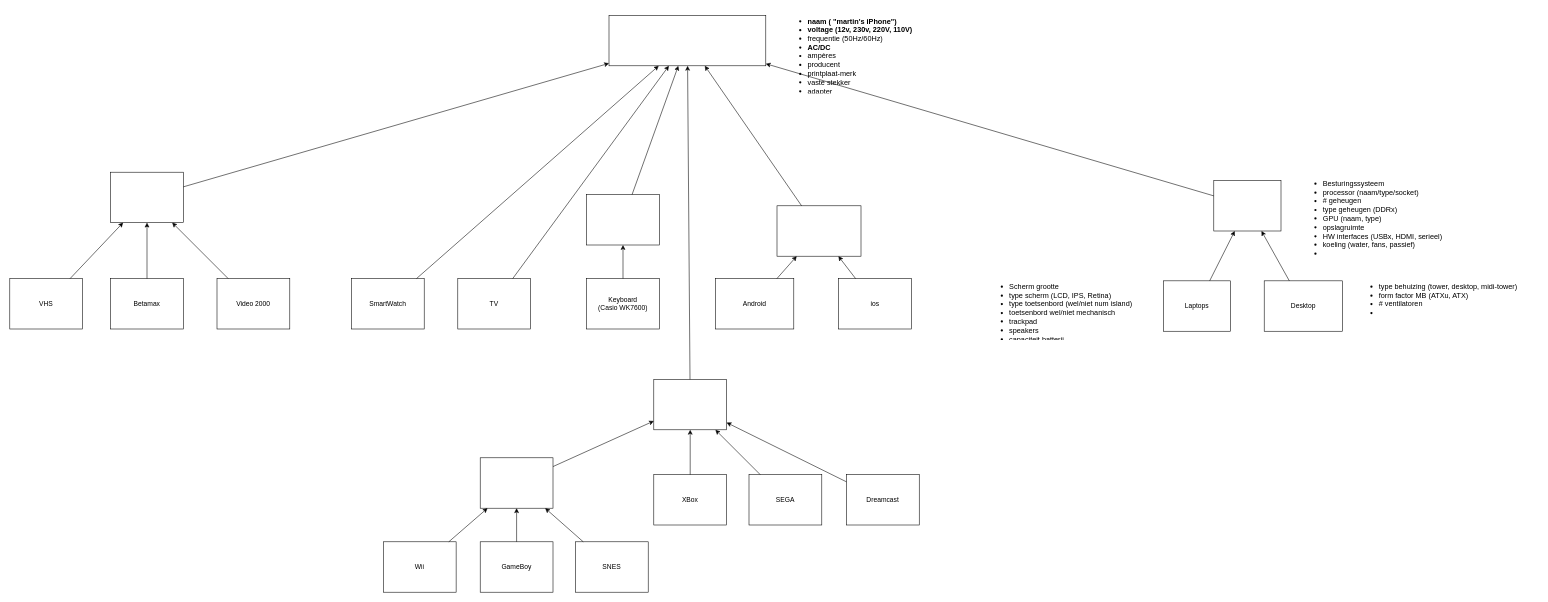
This 1548x602 diagram has some shape labels left out. Here are the shapes that lost their labels. From the top down, the box of each, then its label:
(608, 15, 766, 66): ElectrischeApparaten
(110, 172, 183, 223): VCR
(1213, 180, 1281, 231): Computers
(586, 194, 659, 245): Muziekinstrumenten
(776, 205, 861, 256): Smartphone
(653, 379, 727, 430): Game Consoles
(480, 457, 553, 508): Nintendo
